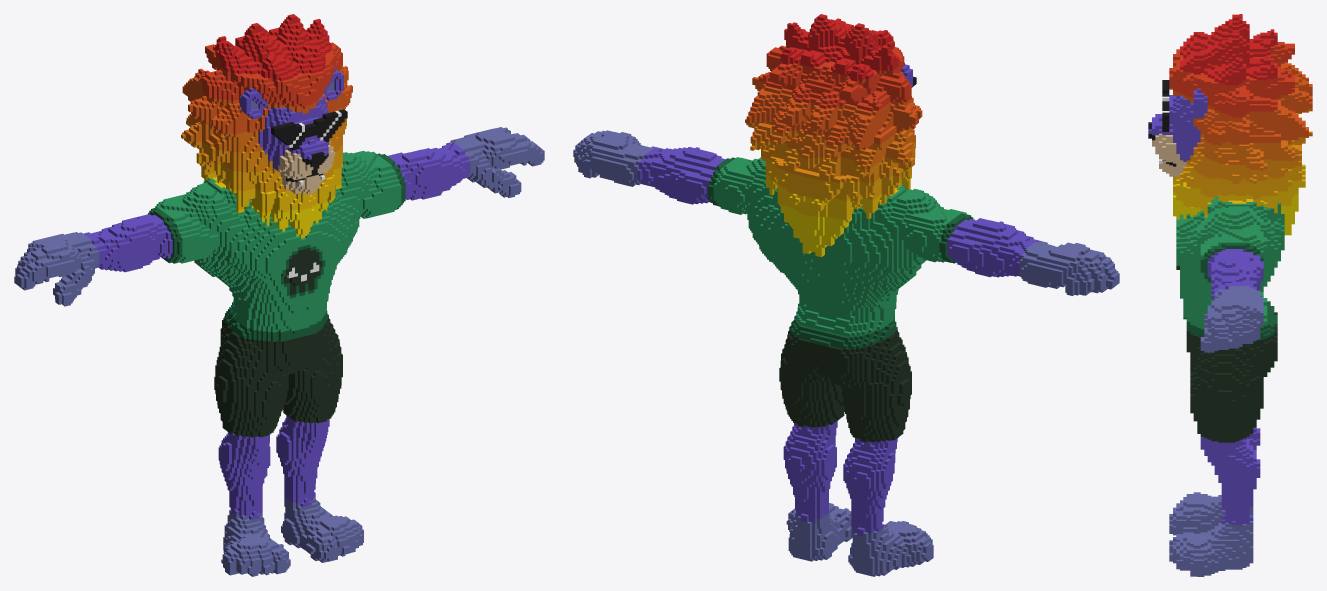
The model's file is 802-BJEbScaT.glb.
The picture shows the model from 3 angles, left to right: view 1: azimuth 30°, elevation 25°; view 2: azimuth 150°, elevation 25°; view 3: azimuth 270°, elevation 25°; orthographic projection. The views are drawn at different scales.
Parts seen in each view (by area): view 1: standard; view 2: standard; view 3: standard.
Part boxes in pixels (x1,y1,x2,y2): standard: (14, 14, 544, 576); standard: (573, 14, 1119, 576); standard: (1148, 14, 1312, 576).
Size of the model in its own units: 17.2 by 16.5 by 4.7.
Materials: 5 (5 with a texture image).
